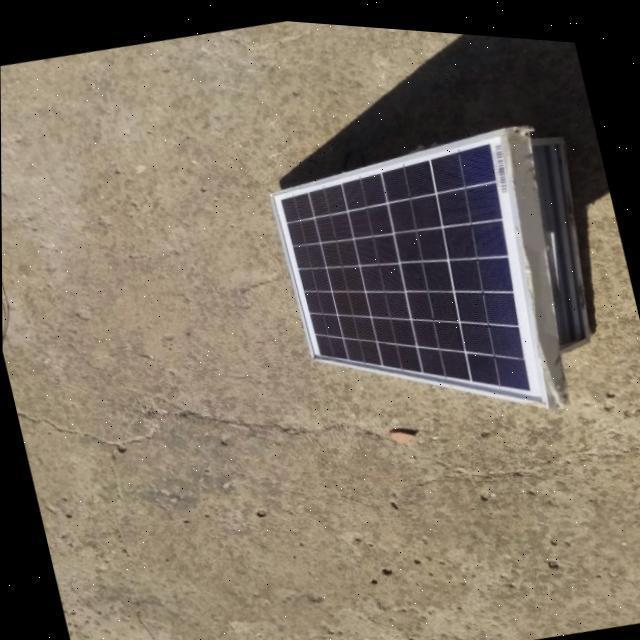Normal Solar Panel: (263, 108, 565, 450)
